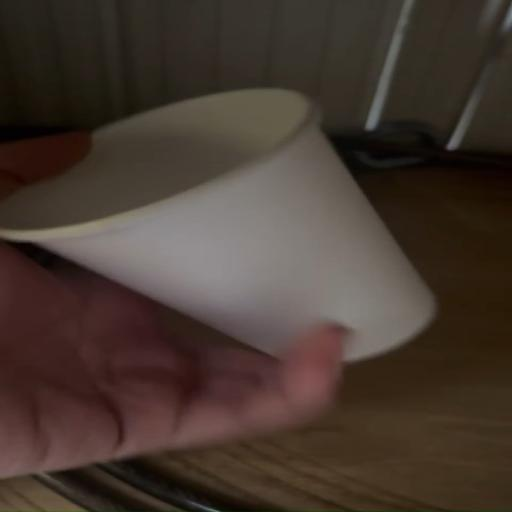Ly_giay: (0, 88, 433, 360)
